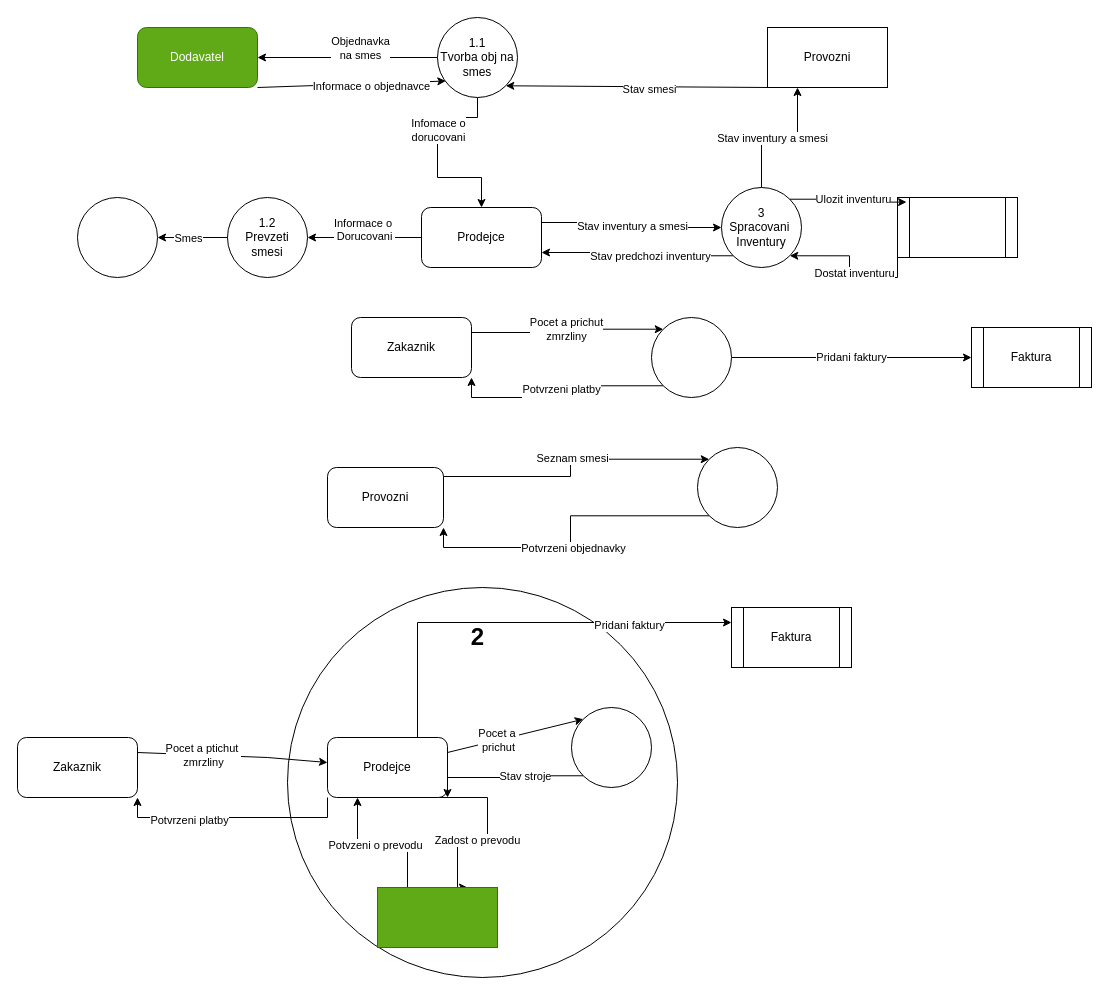
Some shapes in this 1109 by 995 pixel diagram are drawn without their labels. The shapes that lost their labels are listed below. From the top down, each one's centre as x and y in pixels, then its label:
At point 117,237: "2 Priprava zmrzliny".
At point 957,227: "Inventury".
At point 691,357: "Připrava zmrzliny".
At point 737,487: "Tvorba objednavky na smes".
At point 611,747: "Toceni zmrzliny".
At point 437,917: "Banka".
